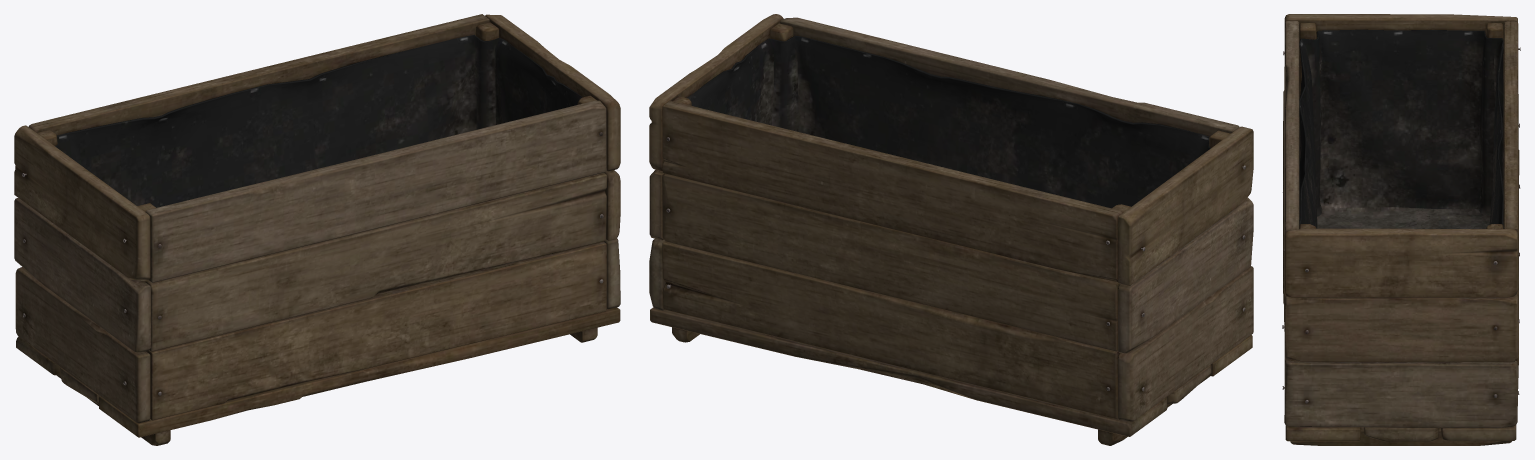
The model's file is planter.glb.
3 views of the same model, side by side, from view 1: azimuth 30°, elevation 25°; view 2: azimuth 150°, elevation 25°; view 3: azimuth 270°, elevation 25° (orthographic). The views are drawn at different scales.
Visible parts, largest first — view 1: planter_box_01; view 2: planter_box_01; view 3: planter_box_01.
Boxes of the visible parts, left/top/right/bottom form: planter_box_01: left=14, top=14, right=620, bottom=445; planter_box_01: left=649, top=14, right=1253, bottom=445; planter_box_01: left=1282, top=14, right=1520, bottom=445.
Bounding box in the file's own units: 0.9126 × 0.4249 × 0.4137.
Materials: 1 (1 with a texture image).
